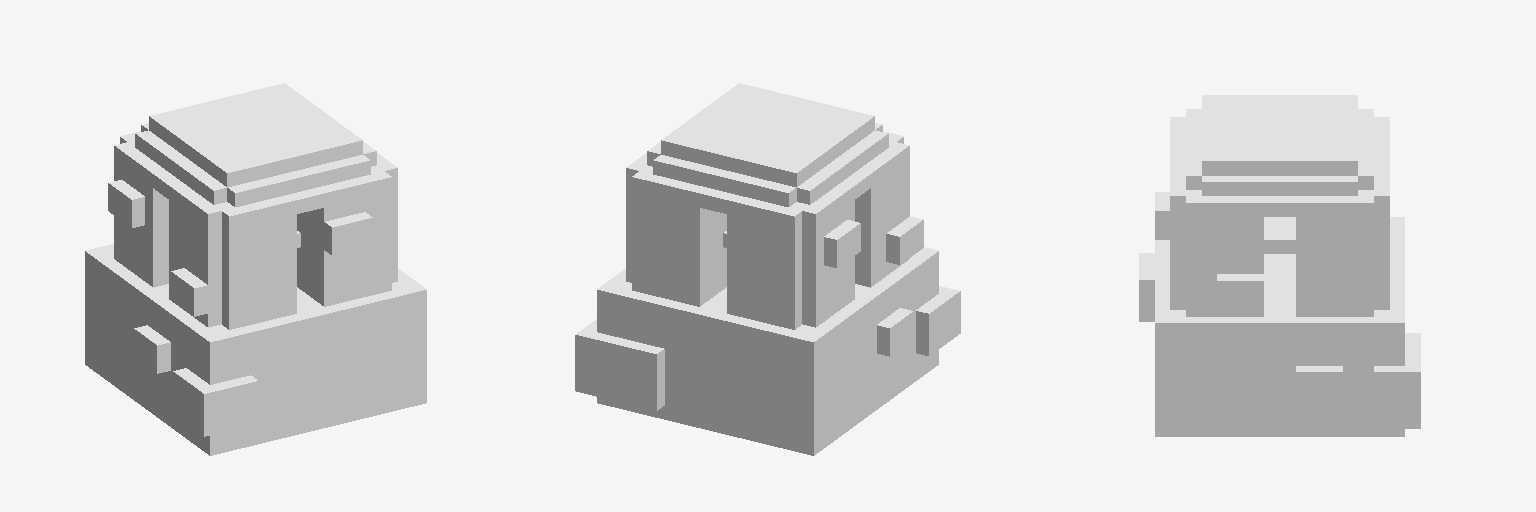
File: TallBuilding02-1.obj
The picture shows the model from 3 angles: view 1: azimuth 30°, elevation 25°; view 2: azimuth 150°, elevation 25°; view 3: azimuth 270°, elevation 25°; orthographic projection.
Parts seen in each view (by area): view 1: object 1; view 2: object 1; view 3: object 1.
Part boxes in pixels (x1,y1,x2,y2): object 1: (85,83,426,455); object 1: (575,83,960,455); object 1: (1139,95,1420,436).
Size of the model in its own units: 1.8 by 1.8 by 1.8.